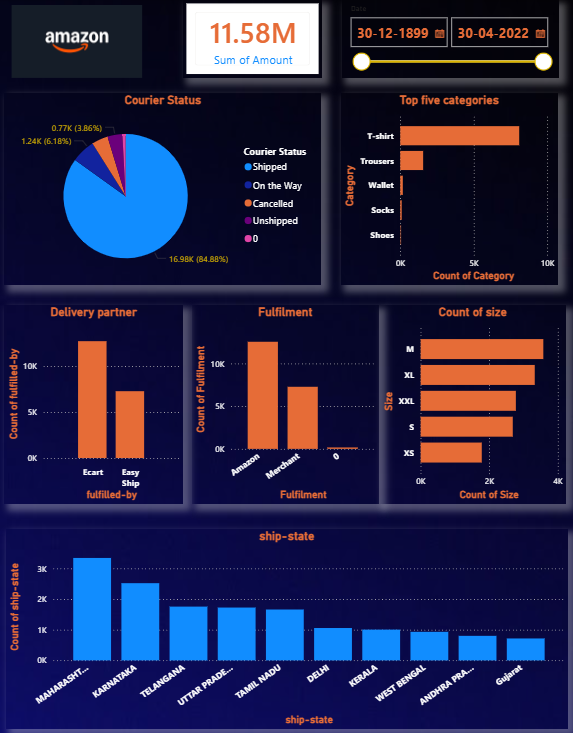

The dashboard page shown, as its layout file describes it:
{"tool":"powerbi","page":{"name":"Page 1","canvas":[816,1056],"ordinal":0},"visuals":[{"type":"image","box":[9,7,206,103],"z":0},{"type":"cardVisual","fields":{"Data":["Sum(Amazon Sale Report.Amount)"]},"box":[261,0,197,110],"z":1000},{"type":"slicer","fields":{"Values":["Amazon Sale Report.Date"]},"box":[486,0,307,110],"z":2000},{"type":"barChart","title":"Top  five categories","fields":{"Category":["Amazon Sale Report.Category"],"Y":["CountNonNull(Amazon Sale Report.Category)"]},"box":[485,131,308,273],"z":3000},{"type":"pieChart","title":"Courier Status","fields":{"Category":["Amazon Sale Report.Courier Status"],"Y":["CountNonNull(Amazon Sale Report.Courier Status)"]},"box":[9,131,449,273],"z":4000},{"type":"columnChart","title":"Delivery partner","fields":{"Category":["Amazon Sale Report.fulfilled-by"],"Y":["CountNonNull(Amazon Sale Report.fulfilled-by)"]},"box":[8.3,431.7,253.3,281.7],"z":5000},{"type":"columnChart","title":"Fulfilment ","fields":{"Category":["Amazon Sale Report.Fulfilment"],"Y":["CountNonNull(Amazon Sale Report.Fulfilment)"]},"box":[275,431.7,265,281.7],"z":6000},{"type":"clusteredBarChart","title":"Count of size","fields":{"Category":["Amazon Sale Report.Size"],"Y":["CountNonNull(Amazon Sale Report.Size)"]},"box":[540,431.7,265,281.7],"z":7000},{"type":"clusteredColumnChart","title":"ship-state ","fields":{"Category":["Amazon Sale Report.ship-state"],"Y":["CountNonNull(Amazon Sale Report.ship-state)"]},"box":[10,748.3,796.7,283.3],"z":8000}]}

Visuals, with their boxes in screenshot pixels (x1, y1, x2, y2), scaled from the page's 816x1056 canvas onto the 573x733 screenshot:
image: x1=6 y1=5 x2=151 y2=76
cardVisual - Sum(Amazon Sale Report.Amount): x1=183 y1=0 x2=322 y2=76
slicer - Amazon Sale Report.Date: x1=341 y1=0 x2=557 y2=76
"Top  five categories" barChart: x1=341 y1=91 x2=557 y2=280
"Courier Status" pieChart: x1=6 y1=91 x2=322 y2=280
"Delivery partner" columnChart: x1=6 y1=300 x2=184 y2=495
"Fulfilment " columnChart: x1=193 y1=300 x2=379 y2=495
"Count of size" clusteredBarChart: x1=379 y1=300 x2=565 y2=495
"ship-state " clusteredColumnChart: x1=7 y1=519 x2=566 y2=716
